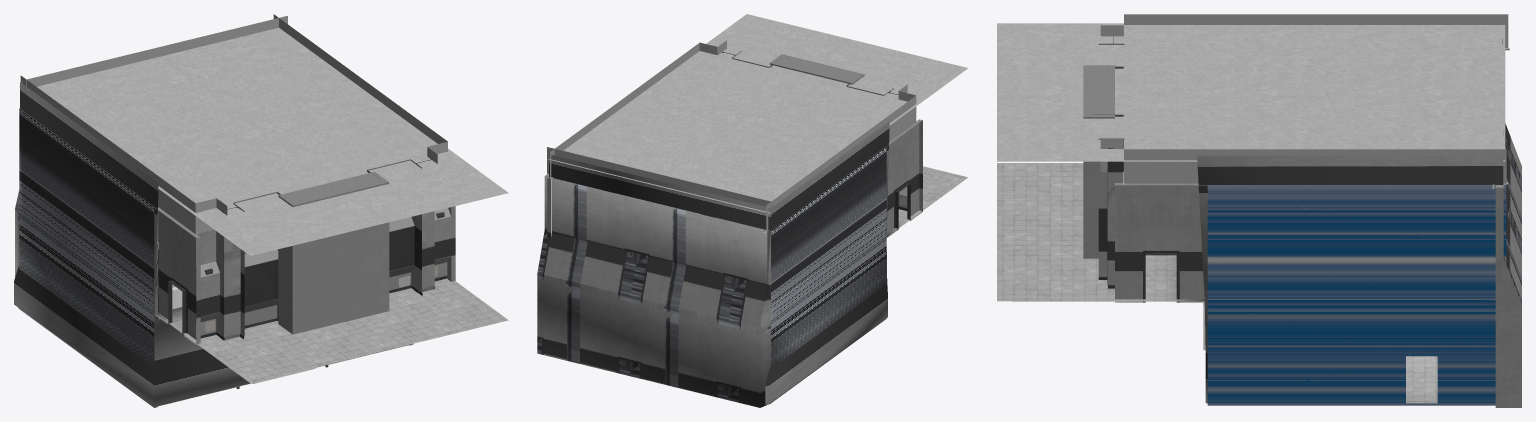
Rendered from NewDeend.fbx.
3 views of the same model, side by side, from view 1: azimuth 30°, elevation 25°; view 2: azimuth 150°, elevation 25°; view 3: azimuth 270°, elevation 25° (orthographic). The views are drawn at different scales.
Visible parts, largest first — view 1: LCZ_Straight_Corridor_LOD0, Cube, LCZ_Straight_Corridor_LOD0.005; view 2: LCZ_Straight_Corridor_LOD0, LCZ_Straight_Corridor_LOD0.005, Cube; view 3: LCZ_Straight_Corridor_LOD0, Cube.
Part boxes in pixels (bbox=[...]): LCZ_Straight_Corridor_LOD0: bbox=[14, 14, 508, 407]; Cube: bbox=[278, 171, 389, 334]; LCZ_Straight_Corridor_LOD0.005: bbox=[26, 16, 287, 86]; LCZ_Straight_Corridor_LOD0: bbox=[537, 14, 968, 407]; LCZ_Straight_Corridor_LOD0.005: bbox=[547, 147, 771, 207]; Cube: bbox=[769, 54, 864, 84]; LCZ_Straight_Corridor_LOD0: bbox=[997, 14, 1521, 407]; Cube: bbox=[1083, 65, 1114, 258].
Size of the model in its own units: 2138 by 1806 by 3336.
Materials: 17 (16 with a texture image).
